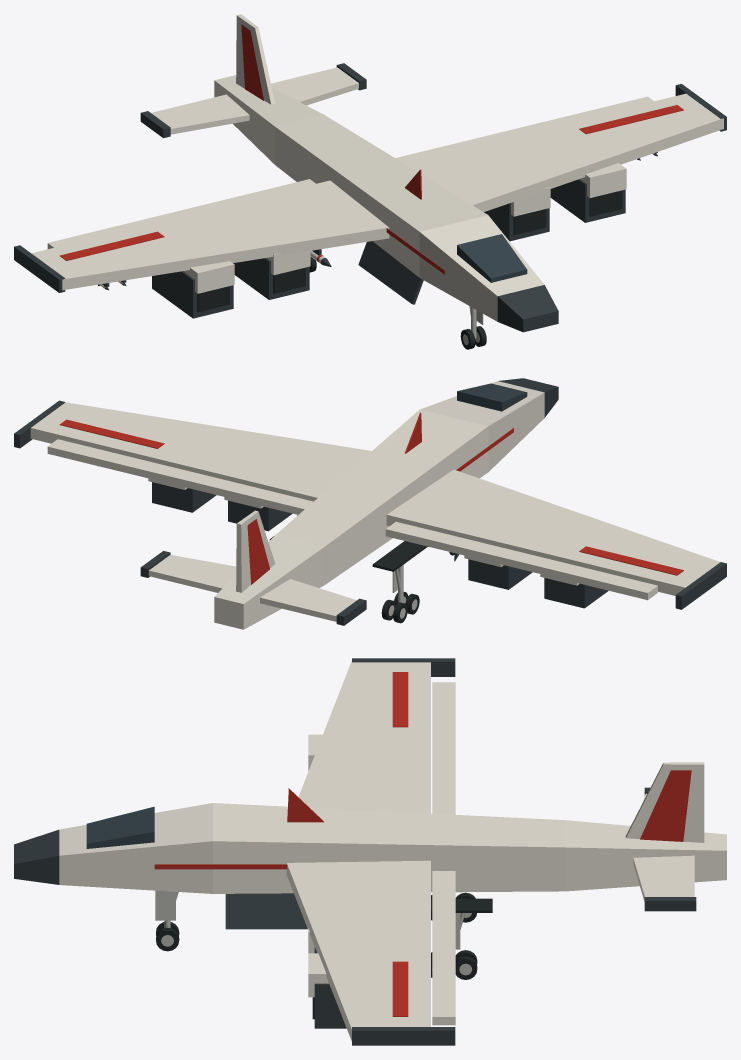
3 views of the same model, one above another, from view 1: azimuth 30°, elevation 25°; view 2: azimuth 150°, elevation 25°; view 3: azimuth 270°, elevation 25° (orthographic). The views are drawn at different scales.
Visible parts, largest first — view 1: bomber-fleet-armor, bomber-fleet-machine, bomber-fleet-red, bomber-fleet-rubber, bomber-fleet-glass, flap-left-painted, flap-right-painted; view 2: bomber-fleet-armor, bomber-fleet-machine, flap-left-painted, flap-right-painted, bomber-fleet-red, bomber-fleet-glass, bomber-fleet-rubber; view 3: bomber-fleet-armor, bomber-fleet-machine, bomber-fleet-red, flap-right-painted, flap-left-painted, bomber-fleet-glass, landing-gear-nose-fleet-edge, bomber-fleet-rubber.
Part boxes in pixels (x1=…): bomber-fleet-armor: x1=31, y1=14, x2=723, y2=321; bomber-fleet-machine: x1=14, y1=63, x2=726, y2=332; bomber-fleet-red: x1=60, y1=24, x2=683, y2=274; bomber-fleet-rubber: x1=197, y1=190, x2=622, y2=312; bomber-fleet-glass: x1=457, y1=234, x2=527, y2=282; flap-left-painted: x1=47, y1=179, x2=315, y2=248; flap-right-painted: x1=395, y1=96, x2=653, y2=162; bomber-fleet-armor: x1=30, y1=381, x2=720, y2=629; bomber-fleet-machine: x1=14, y1=378, x2=726, y2=625; flap-left-painted: x1=385, y1=521, x2=657, y2=600; flap-right-painted: x1=47, y1=439, x2=313, y2=514; bomber-fleet-red: x1=59, y1=412, x2=683, y2=584; bomber-fleet-glass: x1=457, y1=383, x2=527, y2=411; bomber-fleet-rubber: x1=269, y1=536, x2=427, y2=571; bomber-fleet-armor: x1=59, y1=661, x2=726, y2=1041; bomber-fleet-machine: x1=14, y1=658, x2=696, y2=1045; bomber-fleet-red: x1=154, y1=672, x2=691, y2=1016; flap-right-painted: x1=432, y1=871, x2=455, y2=1025; flap-left-painted: x1=432, y1=682, x2=455, y2=814; bomber-fleet-glass: x1=86, y1=806, x2=154, y2=848; landing-gear-nose-fleet-edge: x1=155, y1=890, x2=178, y2=928; bomber-fleet-rubber: x1=312, y1=898, x2=492, y2=1019.
Size of the model in its own units: 156 by 35.86 by 126.
